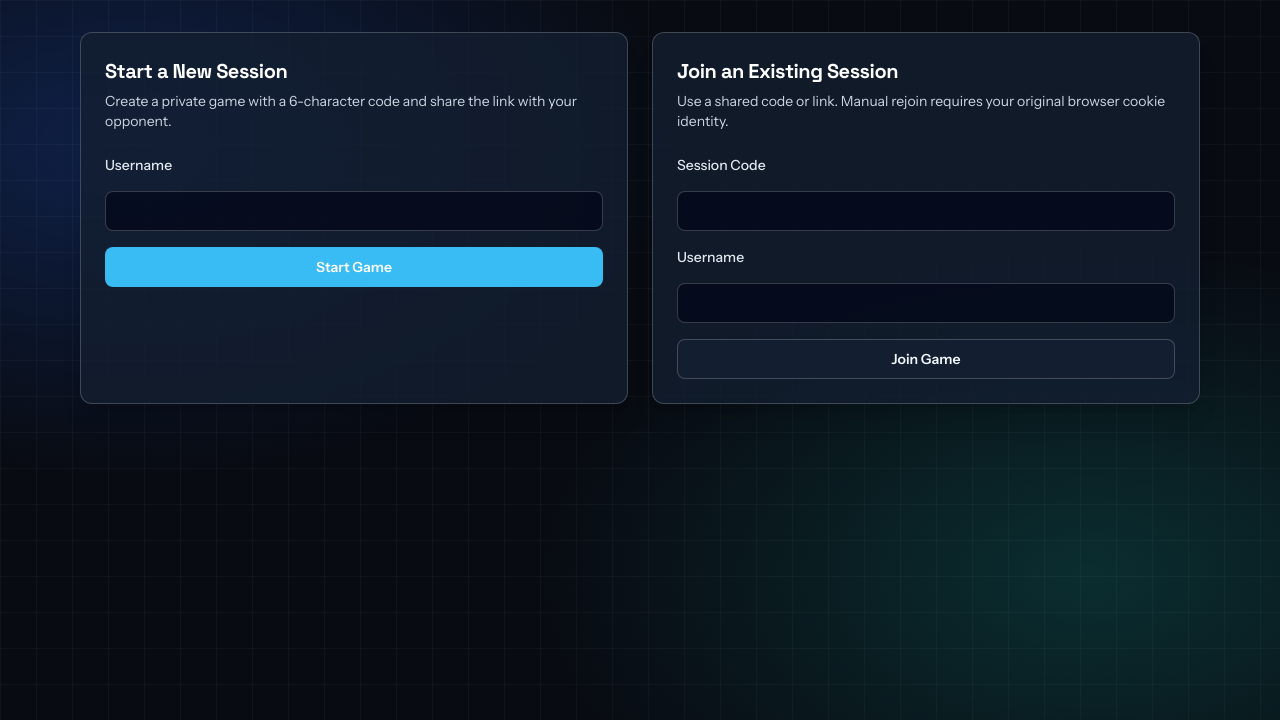
Test case: LobbyPage › shows validation when joining with an invalid session code
Type "abc" into the field labelled "Session Code". click: (926, 211)
box: [677,191,1175,231]
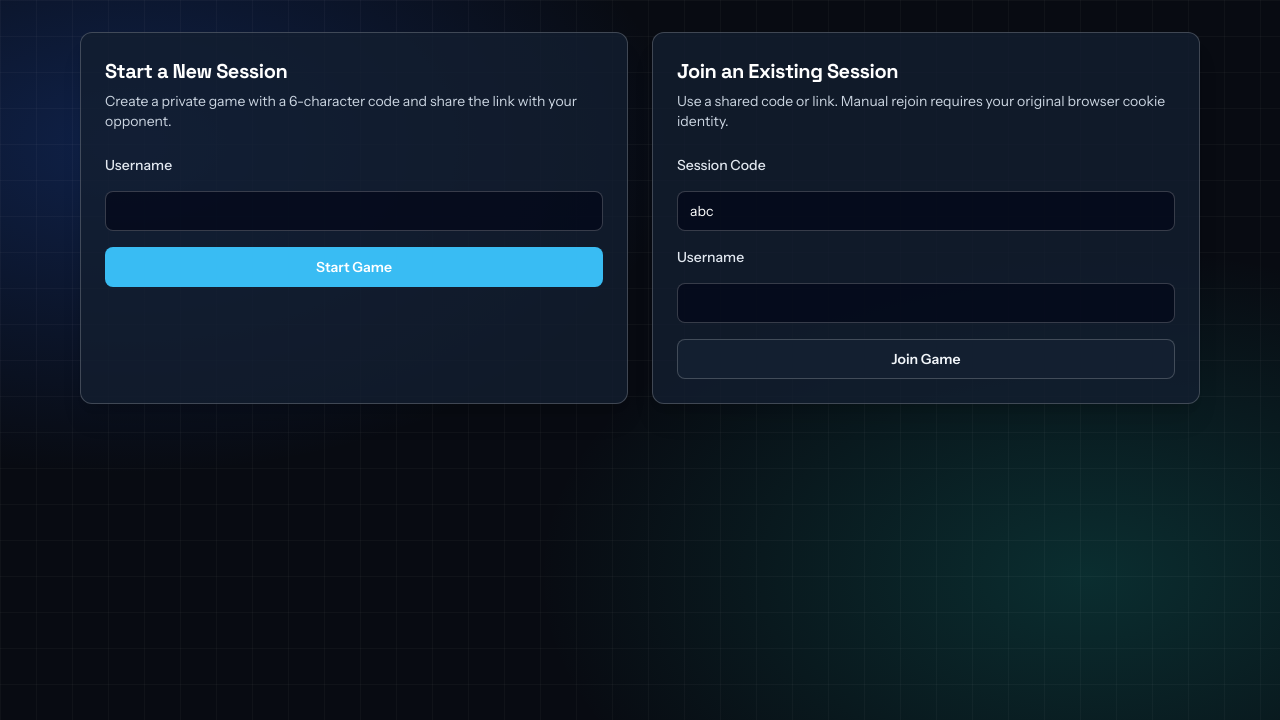
Type "Bob" into the field labelled "Username" below "Session Code". click: (926, 303)
box: [677,283,1175,323]
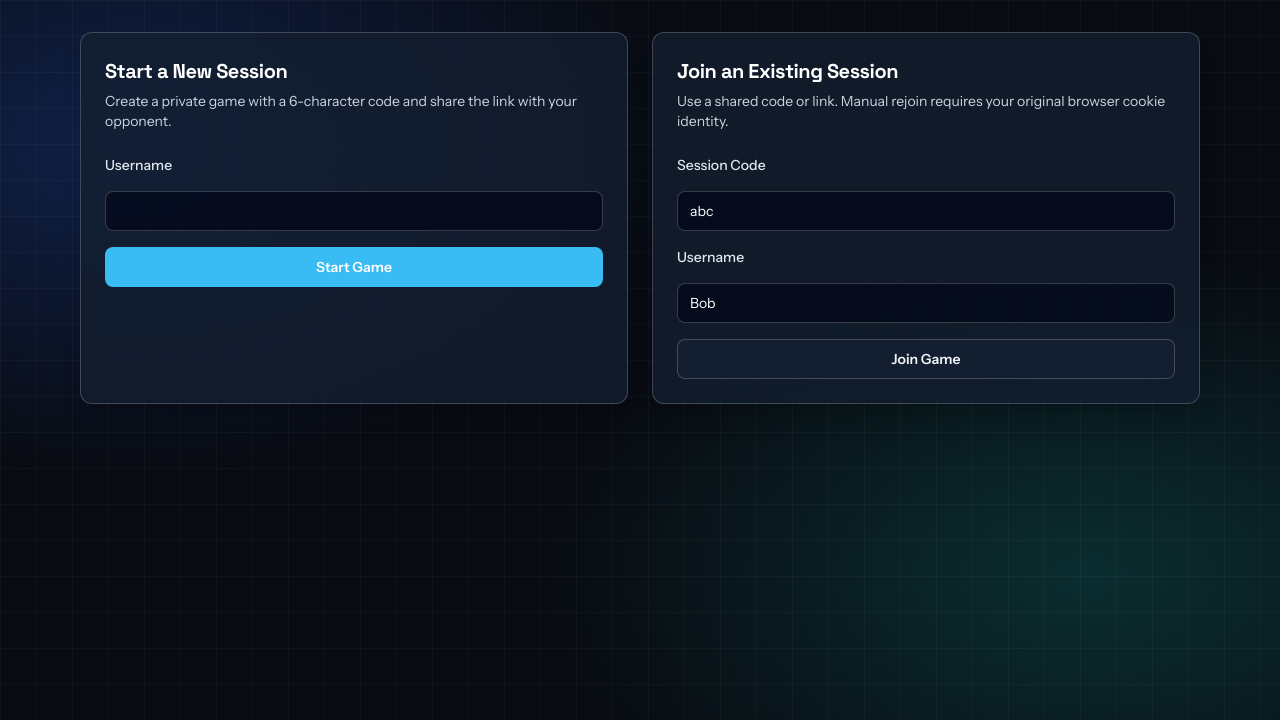
Click the button "Join Game". click: (926, 359)
box: [677,339,1175,379]
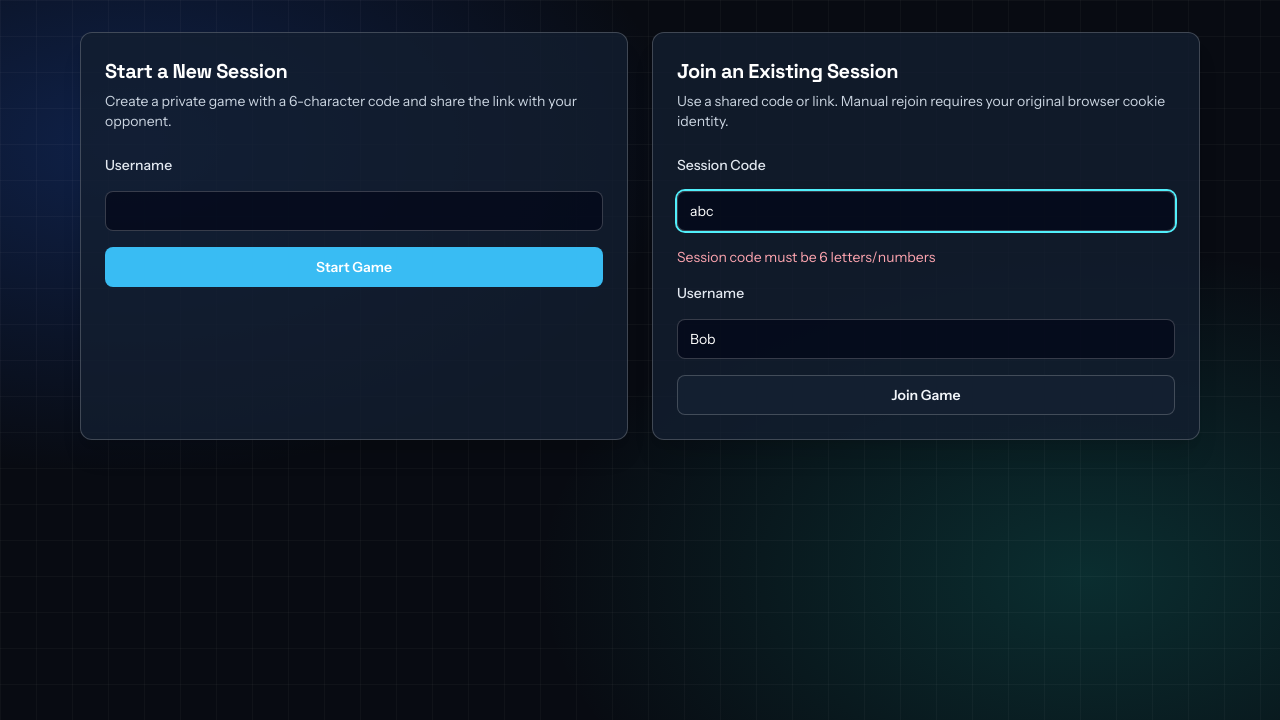
Result: the text "Session code must be 6 letters/numbers" is shown at [677,248,935,266]
